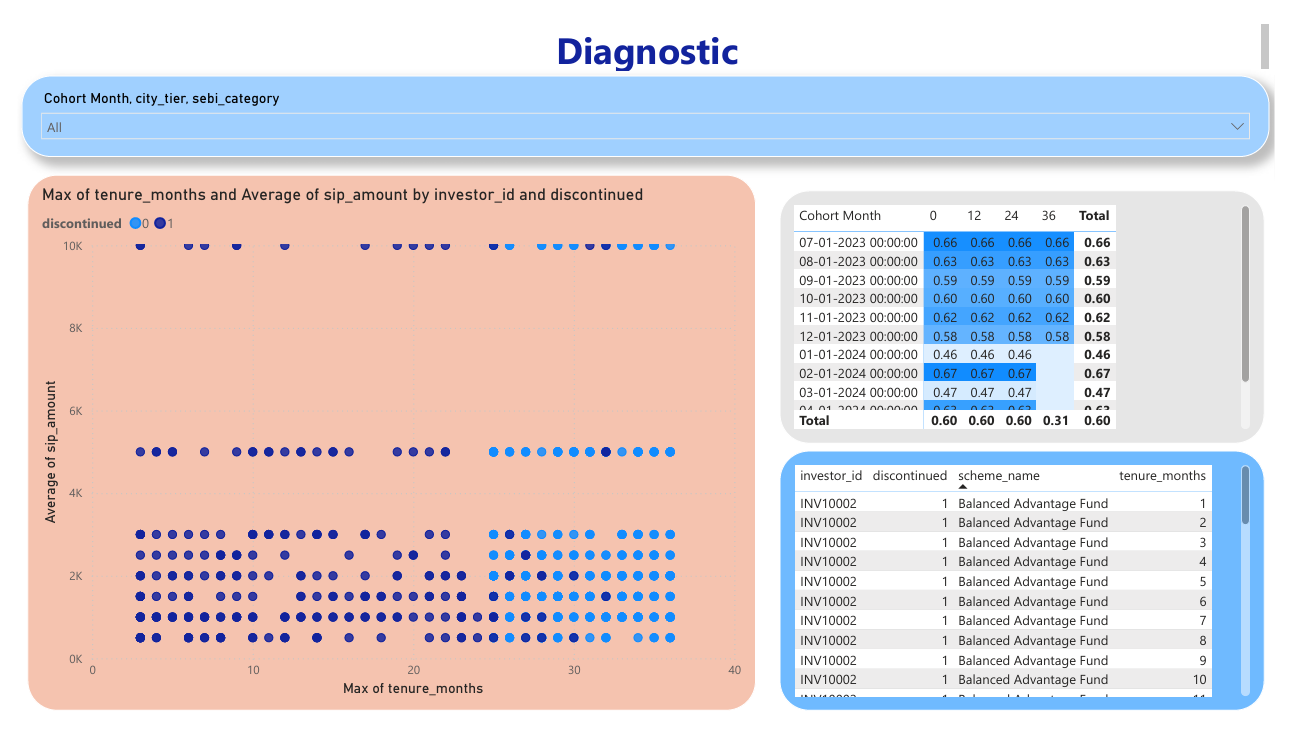

The dashboard page shown, as its layout file describes it:
{"tool":"powerbi","page":{"name":"Diagnostic","canvas":[1280,720],"ordinal":1},"visuals":[{"type":"textbox","box":[10.2,0,1270.2,57.1],"z":0},{"type":"slicer","fields":{"Values":["mf_sip_clean_v2.Cohort Month","mf_sip_clean_v2.city_tier","mf_sip_clean_v2.sebi_category"]},"box":[4.4,57.1,1270.2,83.4],"z":1},{"type":"scatterChart","fields":{"X":["Max(mf_sip_clean_v2.tenure_months)"],"Y":["Avg(mf_sip_clean_v2.sip_amount)"],"Series":["mf_sip_clean_v2.discontinued"],"Category":["mf_sip_clean_v2.investor_id"]},"box":[10.2,158,742,545.9],"z":2},{"type":"tableEx","fields":{"Values":["mf_sip_clean_v2.investor_id","mf_sip_clean_v2.discontinued","mf_sip_clean_v2.scheme_name","mf_sip_clean_v2.tenure_months"]},"box":[775.6,439,494.6,264.9],"z":3},{"type":"pivotTable","fields":{"Rows":["mf_sip_clean_v2.Cohort Month"],"Values":["mf_sip_clean_v2.Retention %"],"Columns":["mf_sip_clean_v2.Months Since Join"]},"box":[775.6,174.1,494.6,257.6],"z":4}]}

Visuals, with their boxes in screenshot pixels (x1, y1, x2, y2), scaled from the page's 1280x720 canvas onto the 1293x737 screenshot:
textbox: {"left": 10, "top": 0, "right": 1292, "bottom": 58}
slicer - mf_sip_clean_v2.Cohort Month x mf_sip_clean_v2.city_tier: {"left": 4, "top": 58, "right": 1288, "bottom": 144}
scatterChart - Max(mf_sip_clean_v2.tenure_months) x Avg(mf_sip_clean_v2.sip_amount): {"left": 10, "top": 162, "right": 760, "bottom": 721}
tableEx - mf_sip_clean_v2.investor_id x mf_sip_clean_v2.discontinued: {"left": 783, "top": 449, "right": 1283, "bottom": 721}
pivotTable - mf_sip_clean_v2.Cohort Month x mf_sip_clean_v2.Retention %: {"left": 783, "top": 178, "right": 1283, "bottom": 442}
